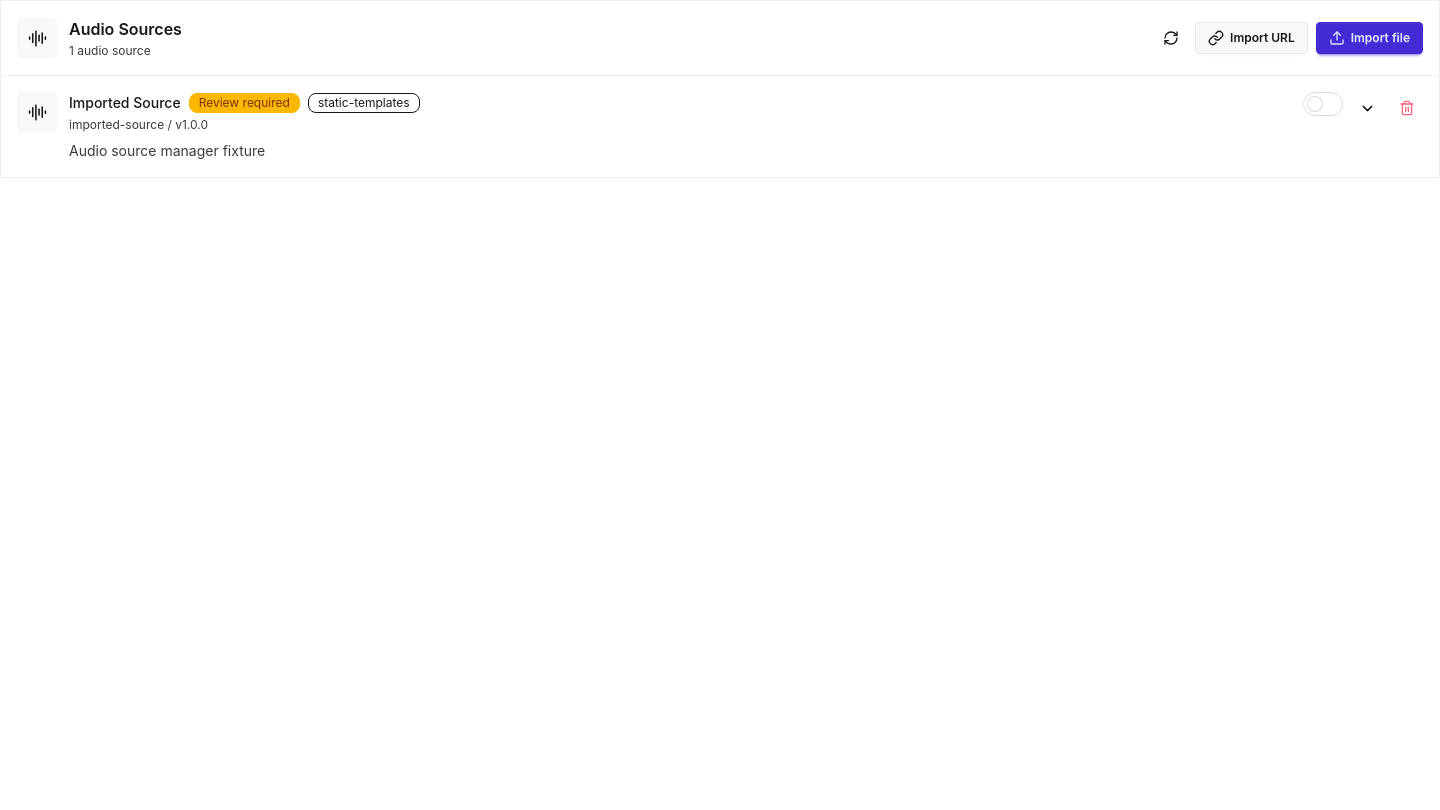
Test case: AudioSourceManager › removes an imported audio source after confirmation
Click the button named "Remove Imported Source". click: (1407,108)
box: left=1391, top=92, right=1423, bottom=124
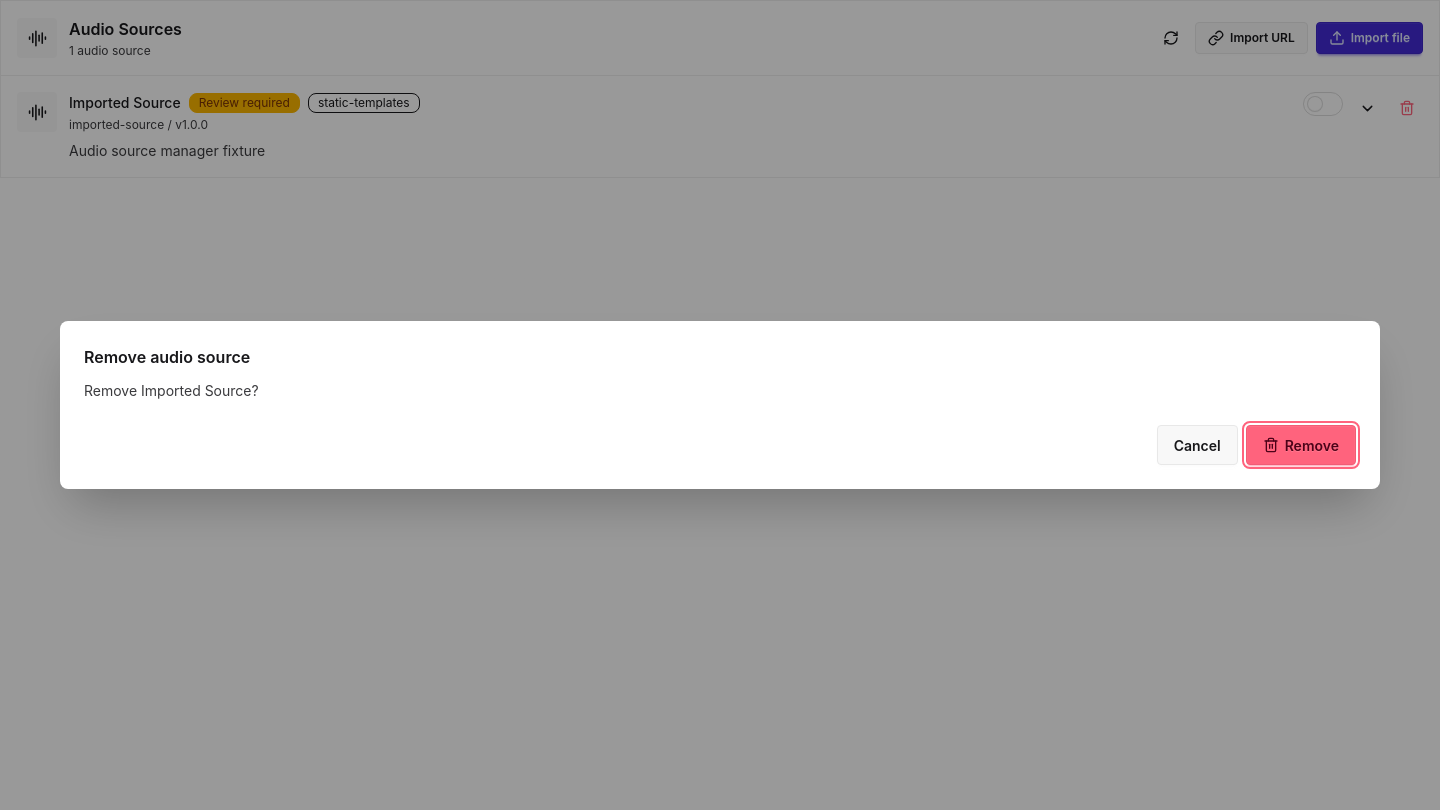
Check: the dialog shows "Remove Imported Source?", box left=84, top=382, right=259, bottom=399
Click the button with aria-label "Confirm remove Imported Source". click: (1301,445)
box: left=1246, top=425, right=1356, bottom=465
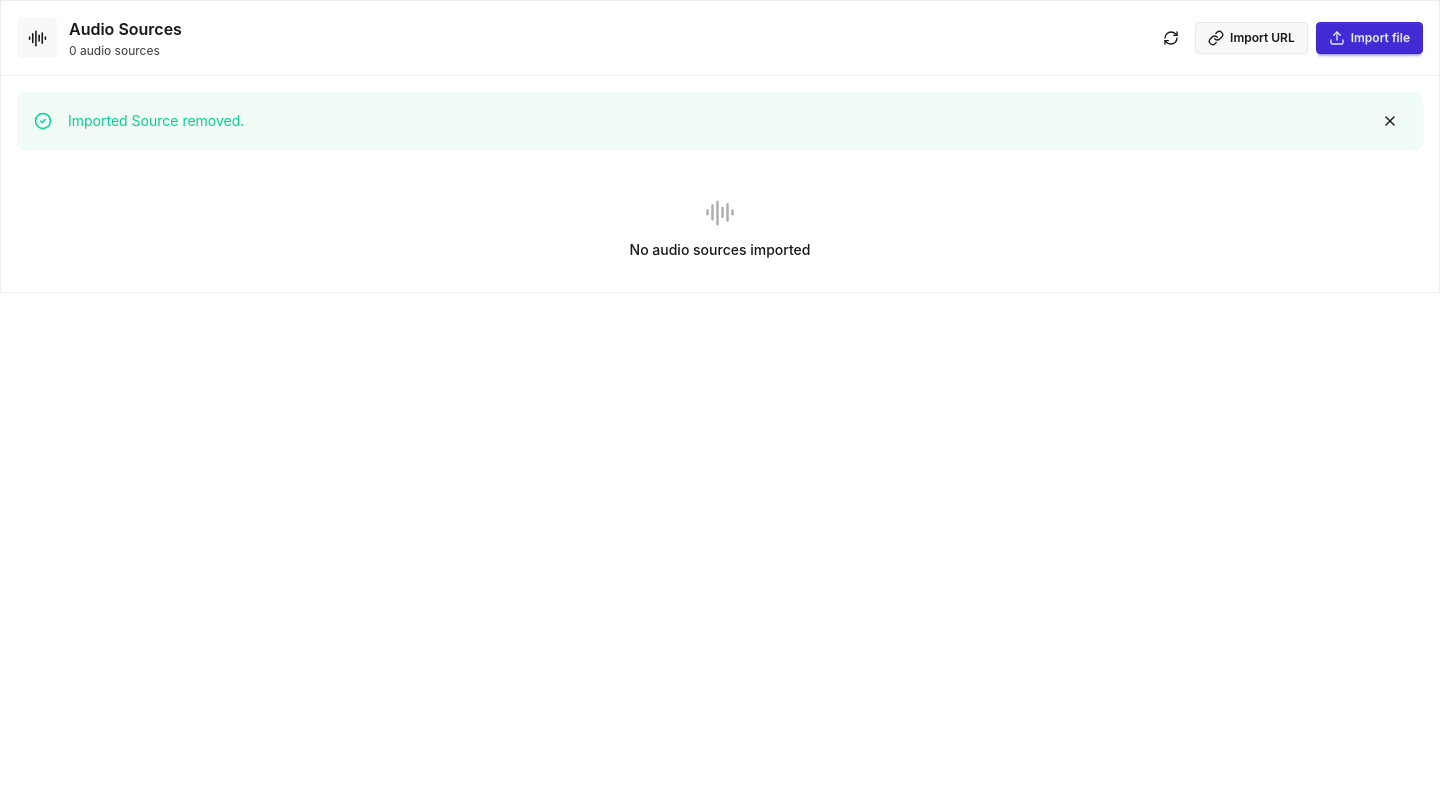
Check: the text "Audio source manager fixture" is gone
Check: the text "Imported Source removed." is shown, box left=68, top=111, right=244, bottom=131
